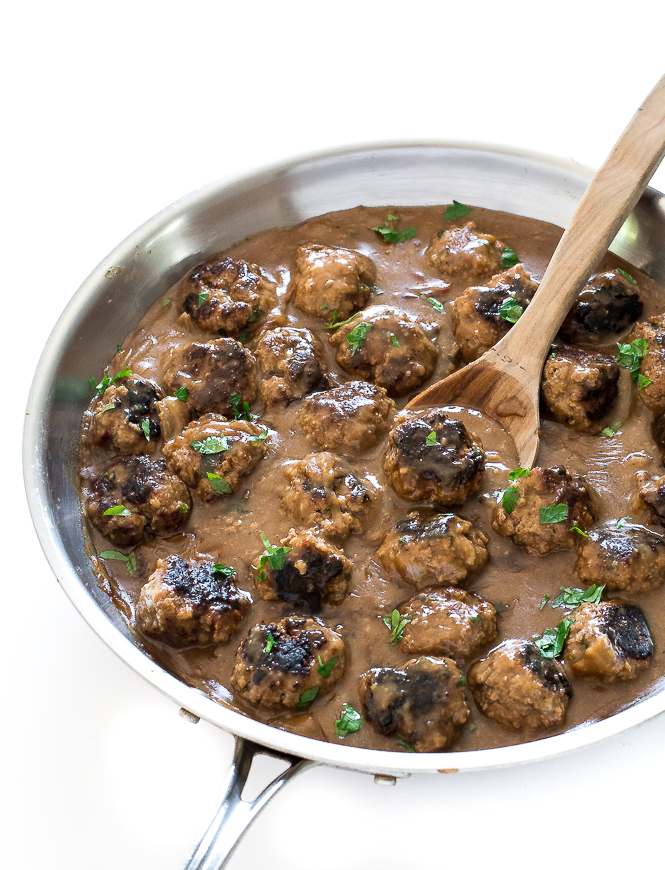meatballs: (184, 362, 592, 657)
